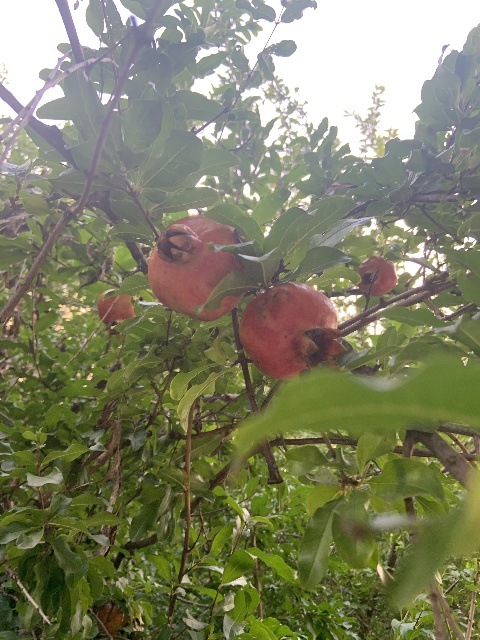ripe: (238, 282, 346, 379), (147, 216, 244, 320), (97, 287, 136, 340), (357, 256, 396, 296)
